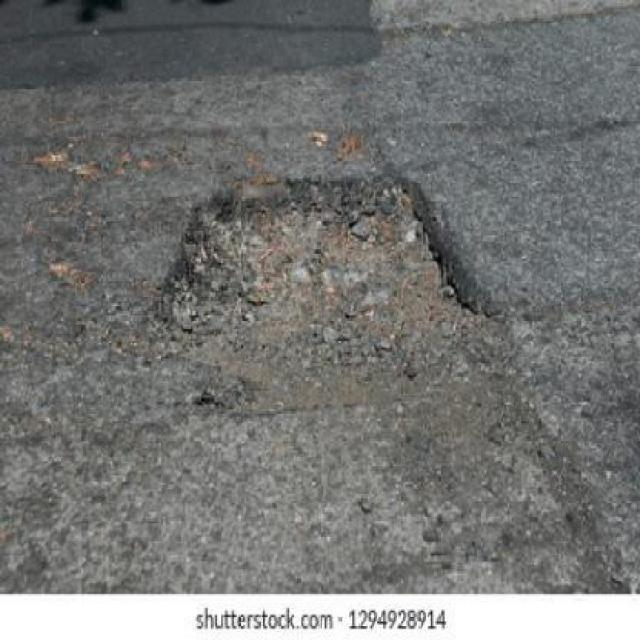Buraco: (136, 158, 518, 428)
